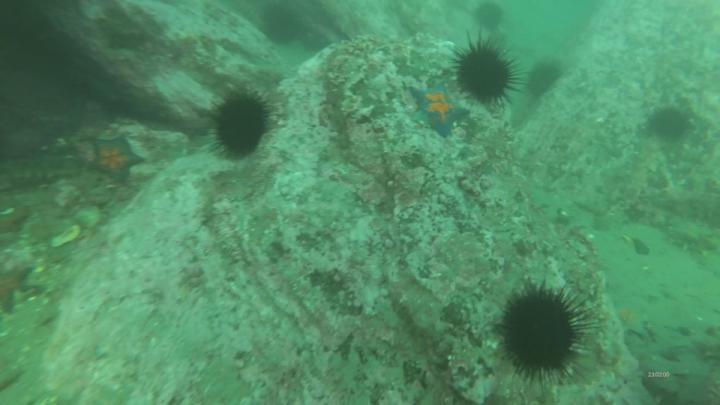echinus: (504, 293, 579, 372), (215, 95, 267, 156), (458, 48, 510, 103), (259, 5, 304, 44), (649, 107, 687, 137), (532, 63, 556, 94), (478, 3, 504, 30)
holothurian: (619, 133, 660, 208), (669, 223, 720, 256)
starfish: (407, 86, 470, 136), (88, 138, 142, 181), (615, 303, 648, 336)
